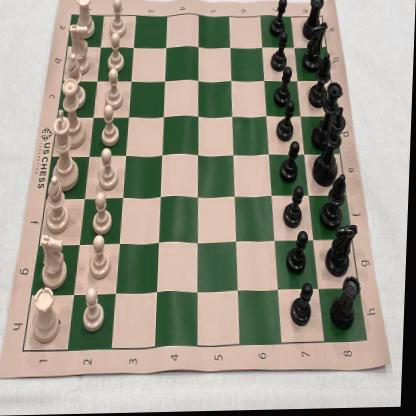black-bishop: (322, 175, 349, 231), (309, 54, 333, 110)
black-king: (312, 107, 348, 189)
black-knight: (327, 226, 360, 280), (302, 23, 327, 74)
black-pawn: (292, 284, 315, 328), (284, 188, 307, 230), (288, 232, 310, 274), (272, 68, 294, 108), (281, 144, 301, 185), (277, 102, 297, 143), (271, 33, 290, 73), (270, 0, 288, 38)
black-queen: (312, 82, 346, 152)
black-rook: (332, 277, 364, 331), (303, 0, 325, 41)
white-bishop: (45, 176, 72, 235), (64, 53, 87, 110)
white-king: (50, 110, 82, 192)
white-knight: (41, 233, 71, 290), (67, 23, 93, 76)
white-pawn: (84, 284, 108, 332), (90, 233, 113, 280), (96, 148, 121, 190), (91, 192, 115, 234), (100, 104, 122, 146), (104, 69, 124, 111), (105, 34, 126, 73), (106, 0, 127, 38)
white-queen: (60, 77, 89, 150)
white-rook: (31, 286, 64, 345), (74, 0, 97, 41)
